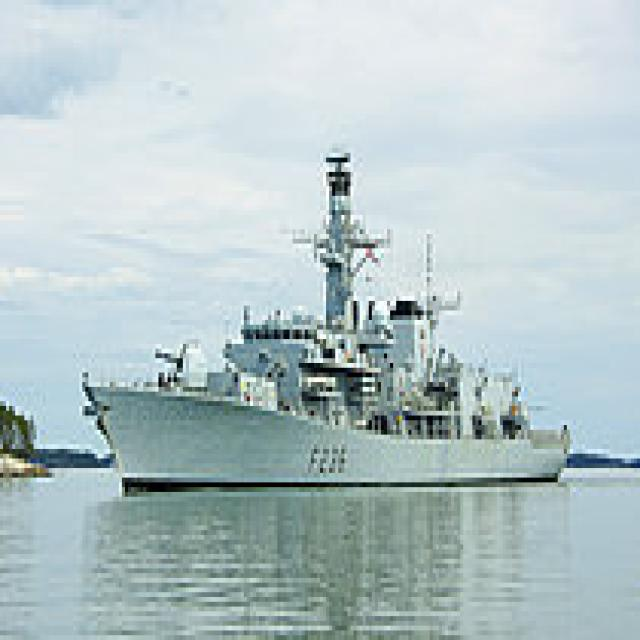Warship: (76, 134, 570, 496)
